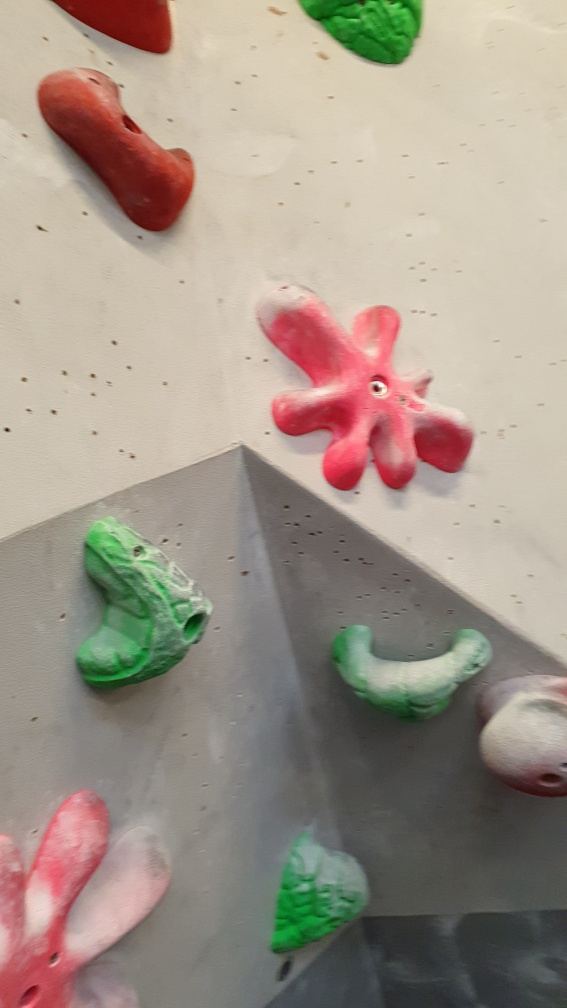Hand Start: (273, 953, 298, 987)
Jug: (328, 615, 498, 722), (265, 822, 372, 960)
Octopus Pinch: (250, 276, 479, 495), (1, 788, 175, 1006)
Sloper: (474, 671, 567, 800)
